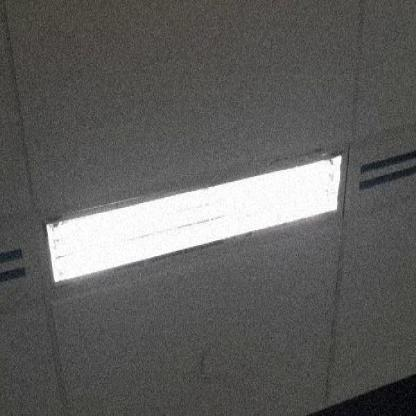light_on: (36, 126, 351, 313)
